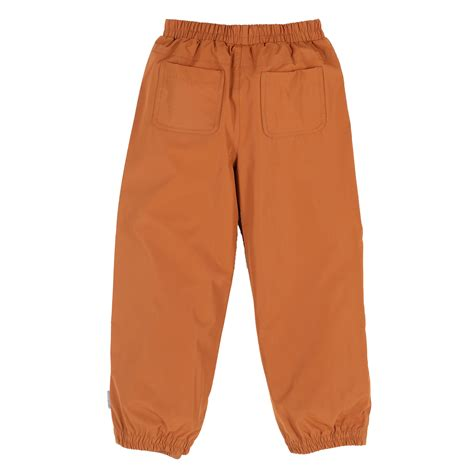nylon: (111, 18, 371, 458)
